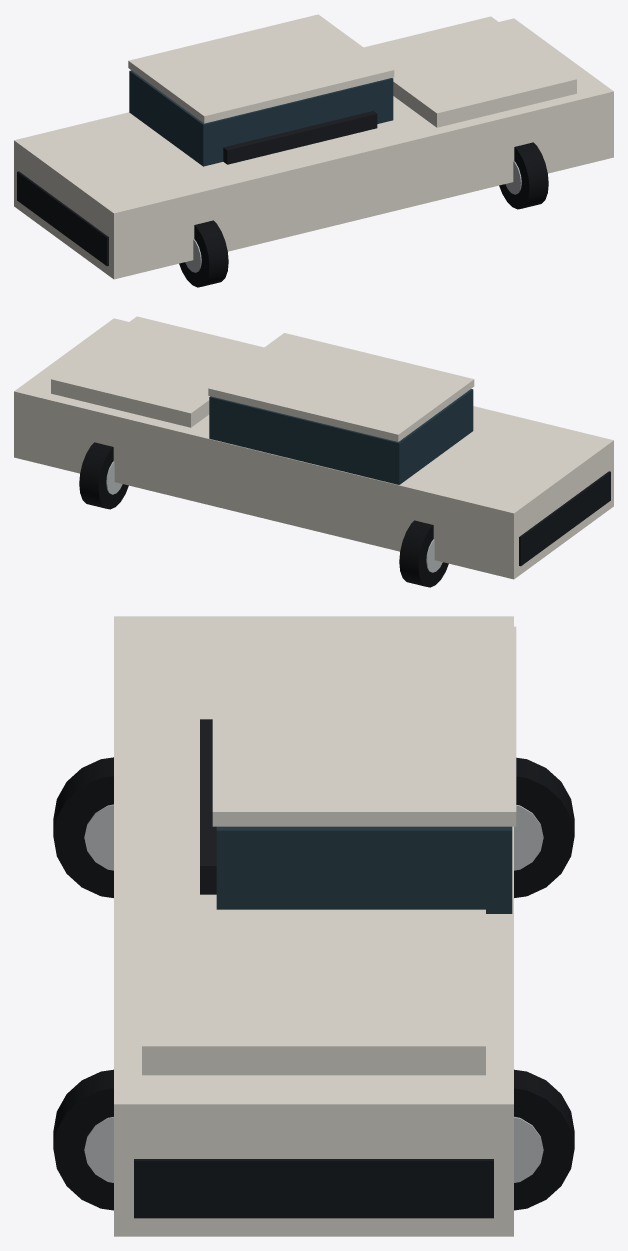
Rendered from rr_ghost_extended.glb.
The picture shows the model from 3 angles, top to bottom: view 1: azimuth 30°, elevation 25°; view 2: azimuth 150°, elevation 25°; view 3: azimuth 270°, elevation 25°; orthographic projection. The views are drawn at different scales.
Parts seen in each view (by area): view 1: body, roof, hood, cabin, interior, rear_bumper, front_right_wheel, rear_right_wheel; view 2: body, roof, hood, cabin, rear_bumper, front_left_wheel, rear_left_wheel; view 3: body, roof, hood, cabin, front_bumper, front_left_wheel, front_right_wheel, rear_right_wheel, rear_left_wheel, interior.
Boxes of the visible parts, x1,y1,x2,y2 form: body: (14, 18, 613, 279); roof: (128, 14, 394, 123); hood: (364, 16, 576, 127); cabin: (129, 70, 393, 166); interior: (223, 111, 377, 164); rear_bumper: (17, 171, 108, 266); front_right_wheel: (499, 142, 548, 209); rear_right_wheel: (179, 220, 228, 287); body: (14, 318, 613, 579); roof: (208, 333, 474, 441); hood: (51, 316, 263, 427); cabin: (209, 389, 473, 484); rear_bumper: (519, 471, 610, 566); front_left_wheel: (79, 442, 128, 509); rear_left_wheel: (399, 520, 448, 587); body: (114, 616, 513, 1236); roof: (212, 626, 516, 826); hood: (142, 909, 485, 1075); cabin: (216, 826, 512, 913); front_bumper: (134, 1159, 493, 1218); front_left_wheel: (514, 1069, 574, 1210); front_right_wheel: (53, 1069, 113, 1210); rear_right_wheel: (53, 757, 113, 897); rear_left_wheel: (514, 757, 574, 897); interior: (200, 719, 216, 894).
Size of the model in its own units: 5.77 by 1.57 by 2.58.
